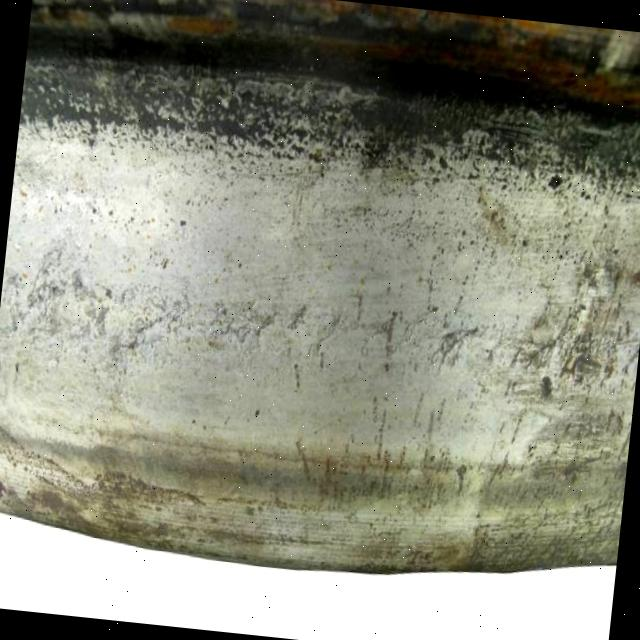Contact_Fatigue_Cracks: (508, 251, 616, 388), (132, 297, 280, 360), (3, 251, 98, 349), (430, 322, 480, 365)
